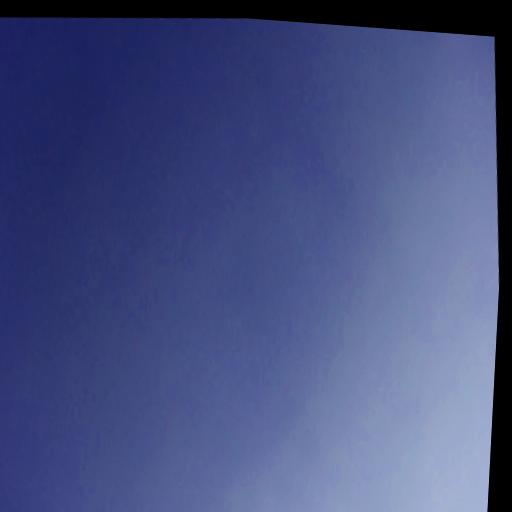drones: (194, 204, 198, 210)
